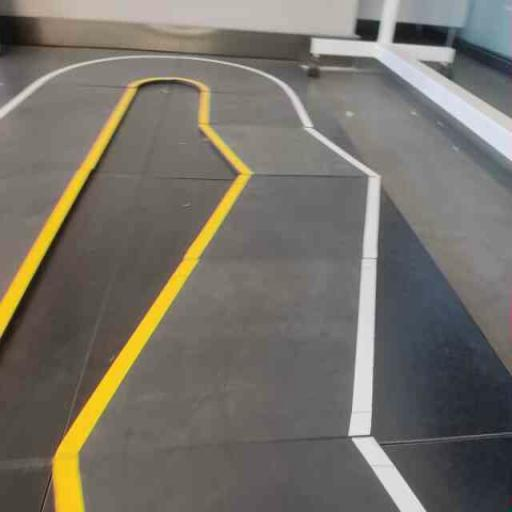crossright: (47, 258, 381, 460)
